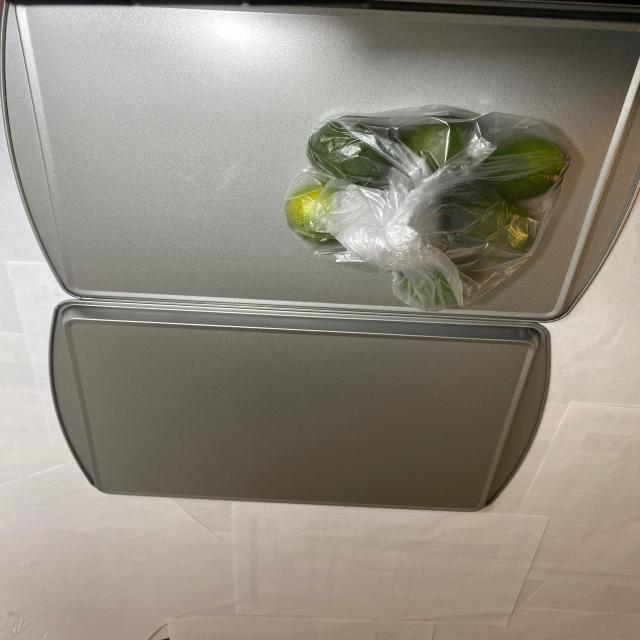lemon: (276, 117, 576, 310)
